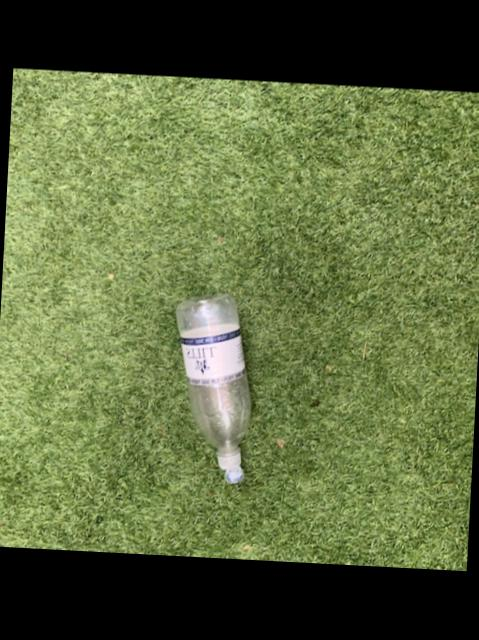plastic: (174, 293, 249, 482)
